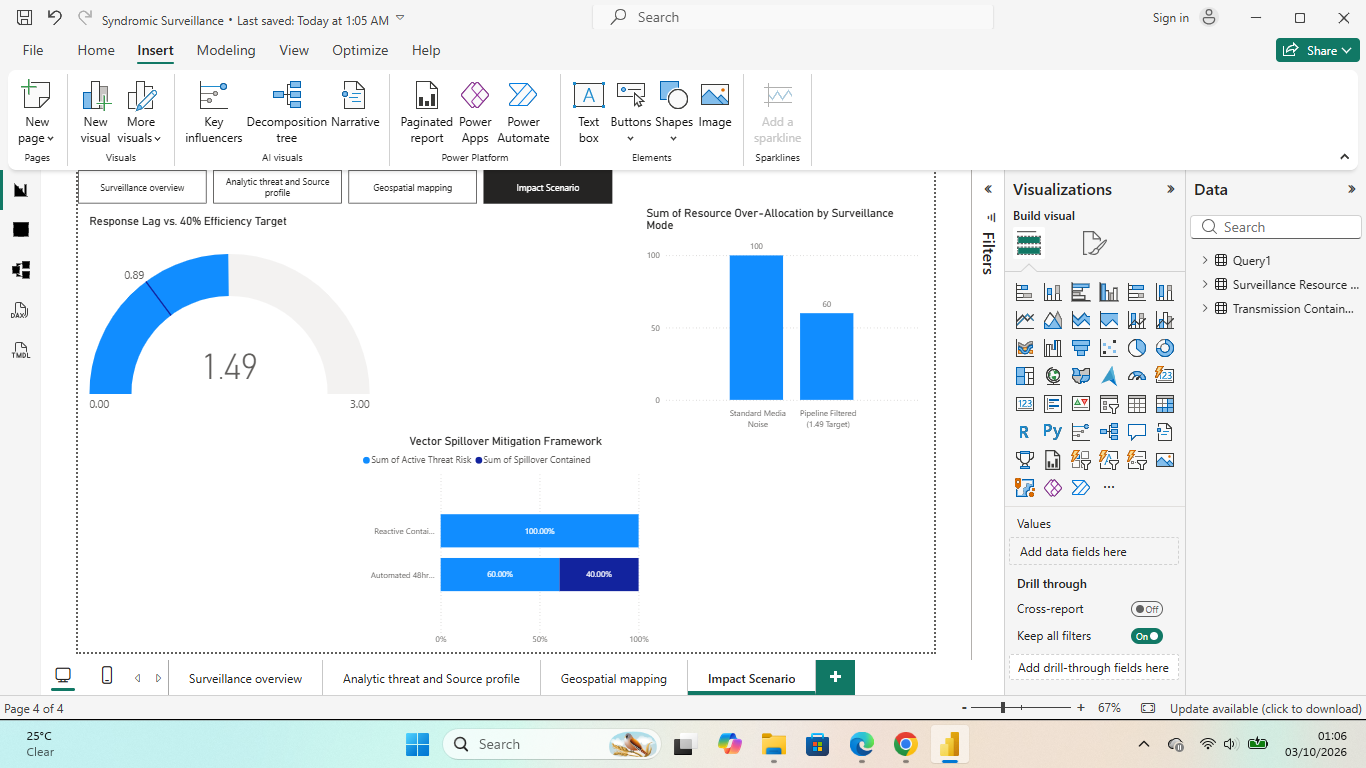

The page's visual inventory and layout, read from the dashboard file:
{"tool":"powerbi","page":{"name":"Impact Scenario","canvas":[1280,720],"ordinal":3},"visuals":[{"type":"gauge","fields":{"Y":["Avg(Query1.Alert Level)"]},"box":[37.3,17.9,439.2,342.1],"z":0},{"type":"clusteredColumnChart","fields":{"Category":["Surveillance Resource Impact.Surveillance Mode"],"Y":["Sum(Surveillance Resource Impact.Resource Over-Allocation)"]},"box":[779.8,19.4,433.2,340.6],"z":1000},{"type":"hundredPercentStackedBarChart","title":"Vector Spillover Mitigation Framework","fields":{"Category":["Transmission Containment Impact.Containment Ring"],"Y":["Sum(Transmission Containment Impact.Active Threat Risk)","Sum(Transmission Containment Impact.Spillover Contained)"]},"box":[369,360,439.2,342.1],"z":2000}]}

Visuals, with their boxes on the page's 1280x720 design canvas (x1, y1, x2, y2). These are canvas units, not pixel positions in the 1366x768 screenshot, which may show the page scaled, cropped or inside an application window:
gauge - Avg(Query1.Alert Level): (37, 18, 476, 360)
clusteredColumnChart - Surveillance Resource Impact.Surveillance Mode x Sum(Surveillance Resource Impact.Resource Over-Allocation): (780, 19, 1213, 360)
"Vector Spillover Mitigation Framework" hundredPercentStackedBarChart: (369, 360, 808, 702)
